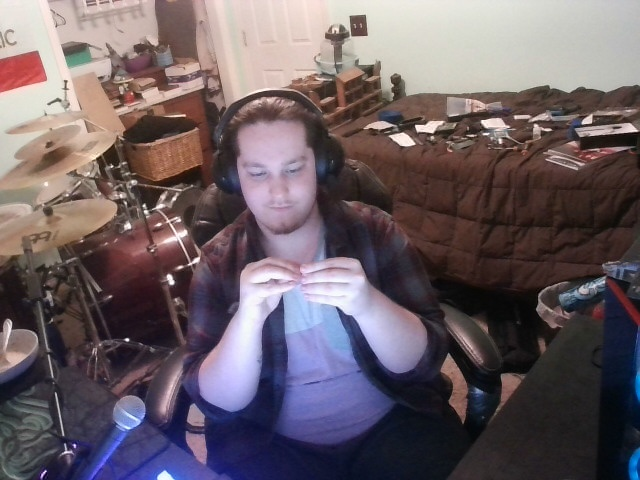more: (220, 243, 383, 332)
